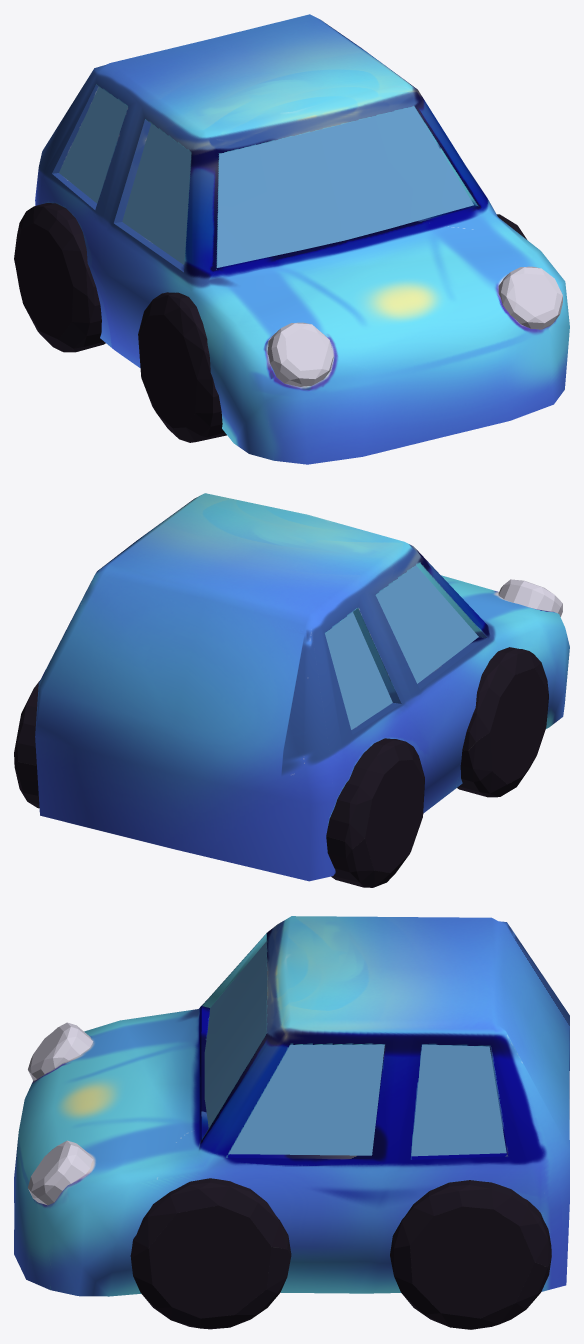
Rendered from bluecar.obj.
The picture shows the model from 3 angles, top to bottom: view 1: azimuth 30°, elevation 25°; view 2: azimuth 150°, elevation 25°; view 3: azimuth 270°, elevation 25°; orthographic projection. The views are drawn at different scales.
Visible parts, largest first — view 1: Cube_Material, Cube.007_Material, Cube.006_Material, Cube.008_Material, Cylinder; view 2: Cube_Material, Cube.006_Material, Cube.008_Material, Cylinder; view 3: Cube_Material, Cube.006_Material, Cube.008_Material, Cube.007_Material, Cylinder.
Part boxes in pixels (bbox=[...]): Cube_Material: bbox=[35, 14, 569, 464]; Cube.007_Material: bbox=[217, 106, 473, 267]; Cube.006_Material: bbox=[14, 203, 526, 442]; Cube.008_Material: bbox=[59, 87, 190, 264]; Cylinder: bbox=[267, 266, 562, 386]; Cube_Material: bbox=[35, 493, 569, 881]; Cube.006_Material: bbox=[14, 647, 548, 887]; Cube.008_Material: bbox=[325, 565, 478, 729]; Cylinder: bbox=[498, 579, 562, 616]; Cube_Material: bbox=[14, 916, 569, 1296]; Cube.006_Material: bbox=[130, 1178, 551, 1329]; Cube.008_Material: bbox=[228, 1044, 506, 1156]; Cube.007_Material: bbox=[204, 941, 266, 1127]; Cylinder: bbox=[28, 1022, 93, 1205].
Bounding box in the file's own units: 2.17 × 1.56 × 2.82.
Materials: 1 (1 with a texture image).
